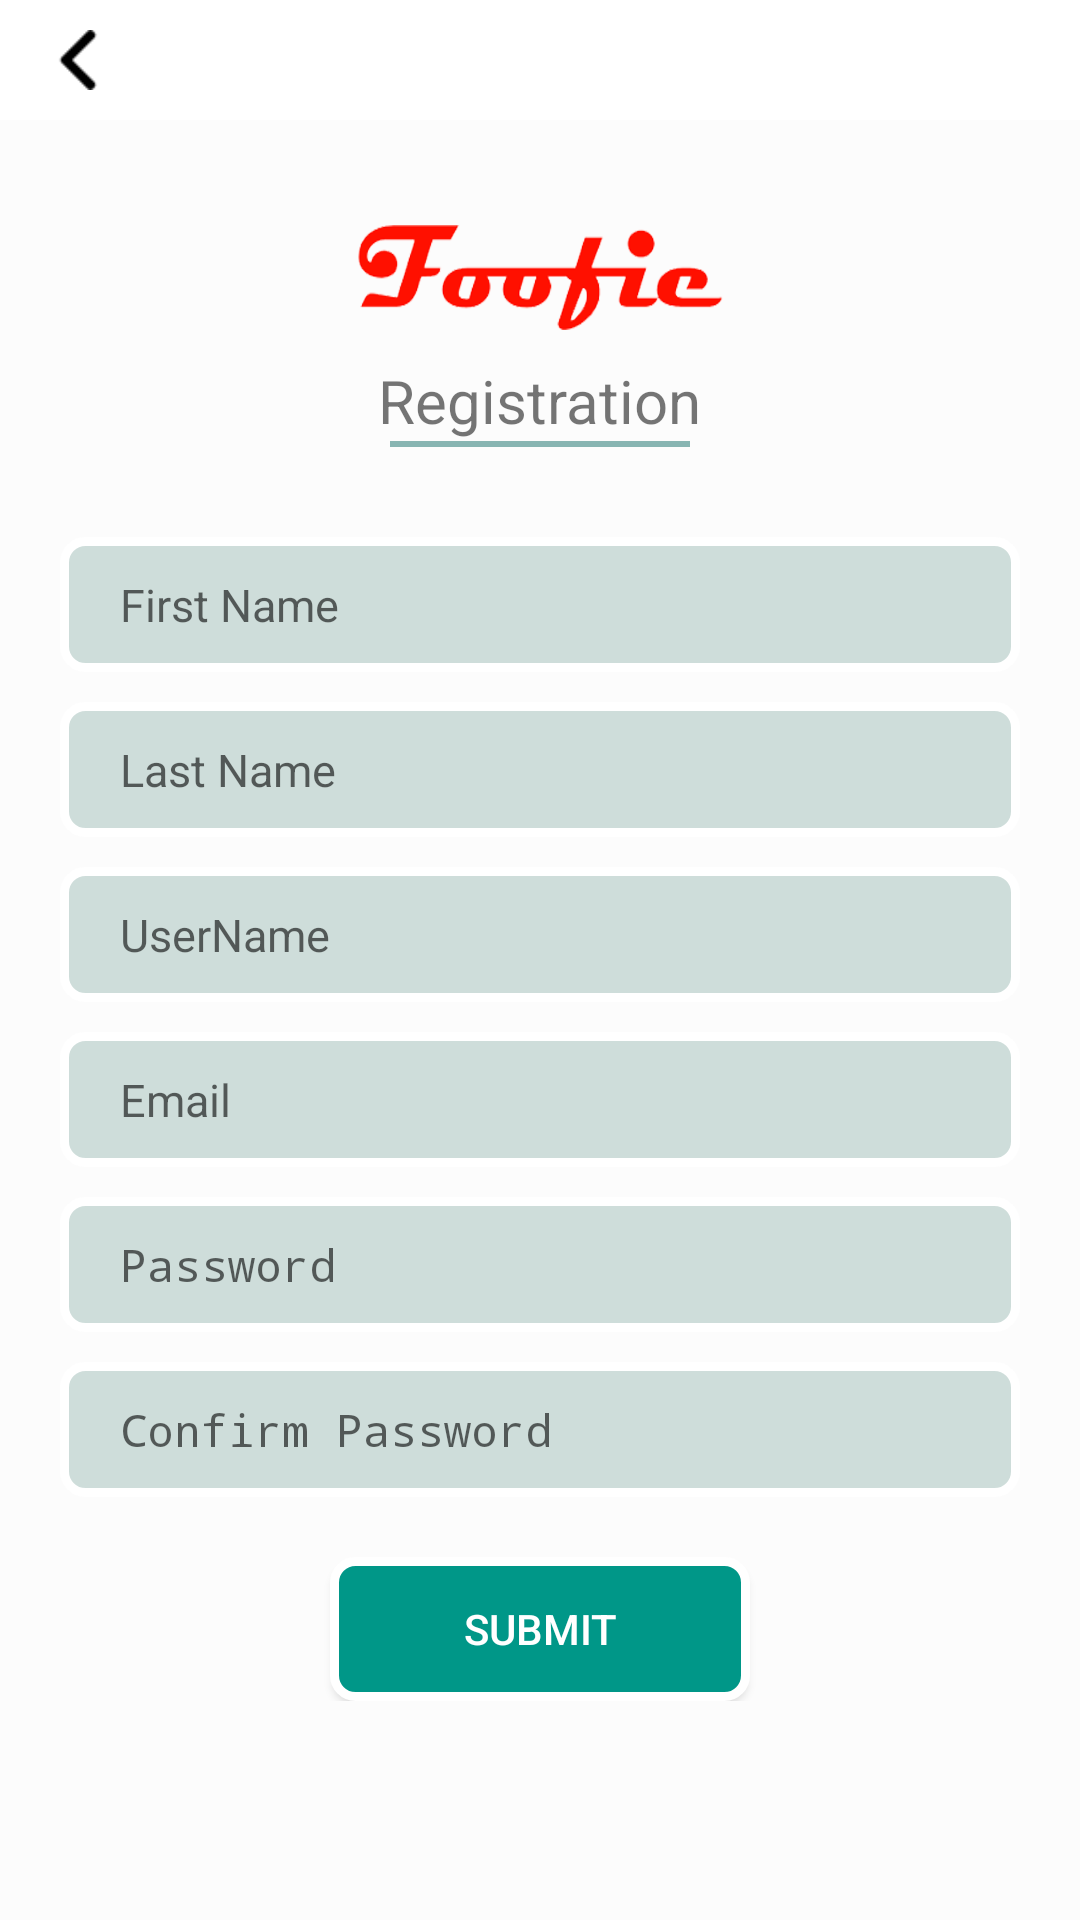

Named icons in this screenshot (1080x1920) and their bounding boxes, [left=x1, top=y1, right=x2, bottom=y2]:
back: [left=59, top=30, right=97, bottom=90]
